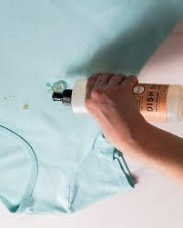oil: (46, 80, 66, 92), (22, 104, 33, 114), (3, 91, 15, 100)
